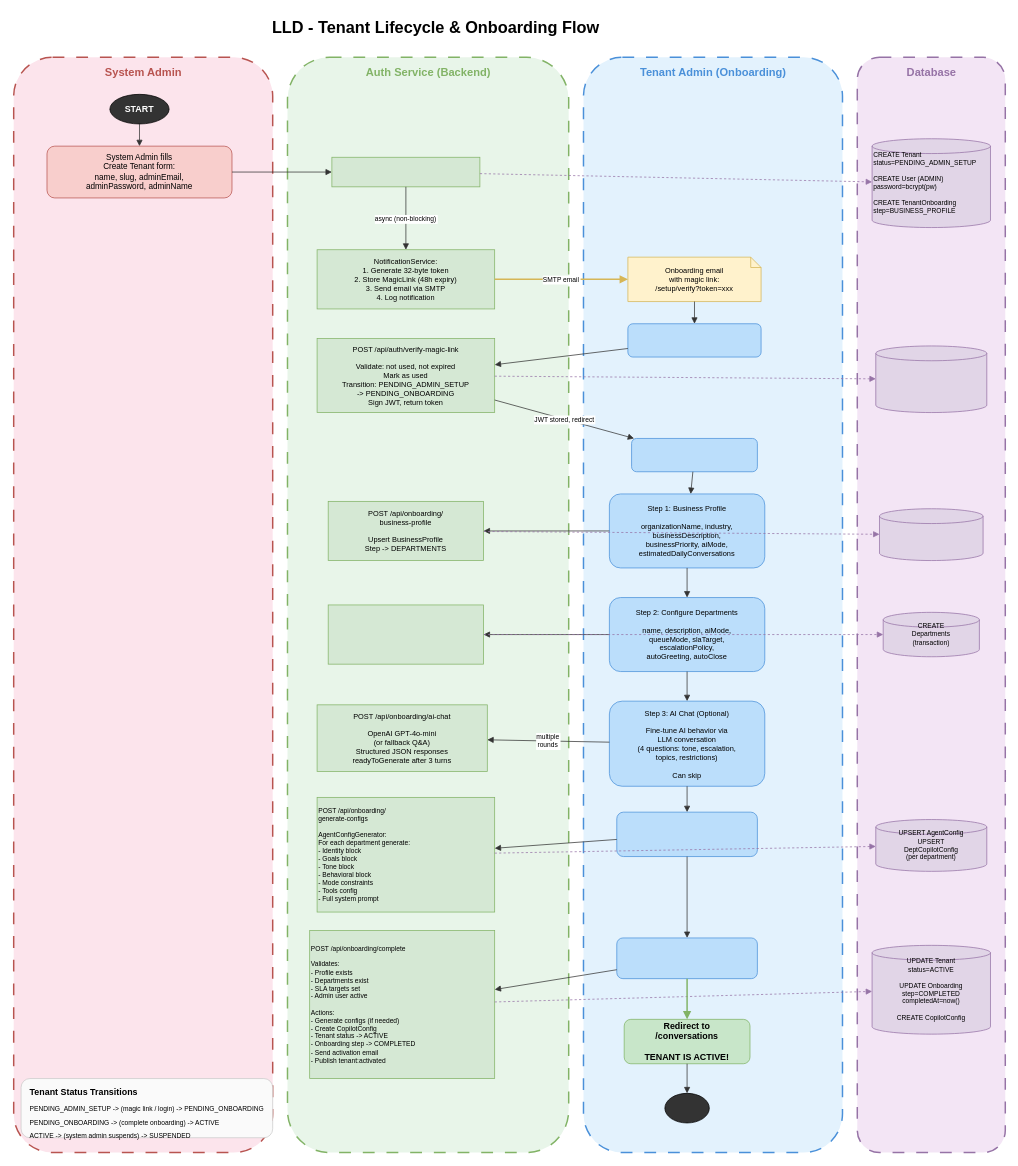
Some shapes in this 1018 by 1166 pixel diagram are drawn without their labels. Here are the shapes that lost their labels. From the top down, the centre of each, then its label:
point 405,172: POST /api/system/tenants
point 694,340: Admin clicks magic link in email
point 931,379: UPDATE Tenant status= PENDING_ONBOARDING UPDATE MagicLink usedAt=now()
point 694,455: Redirect to /setup (onboarding wizard)
point 931,534: UPSERT BusinessProfile UPDATE step= DEPARTMENTS
point 405,634: POST /api/onboarding/ departments Create departments (tx) Step -> COMPLETED
point 686,834: Step 4: Generate Configs Click "Generate AI Configs"
point 686,958: Step 5: Complete Onboarding Click "Activate"
point 686,1108: END
